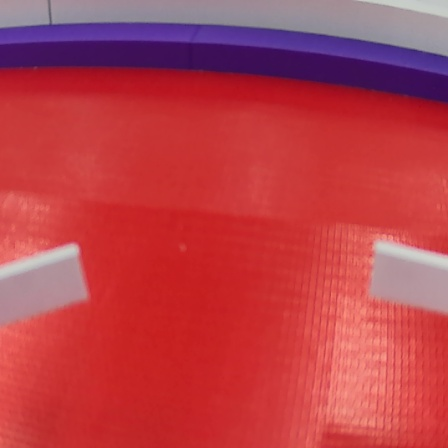red_aim: (2, 17, 448, 448)
